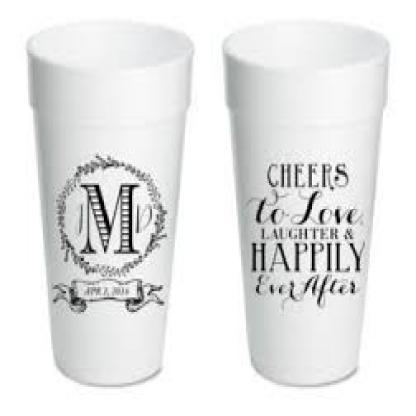paper: (221, 21, 386, 383), (26, 25, 190, 383)
